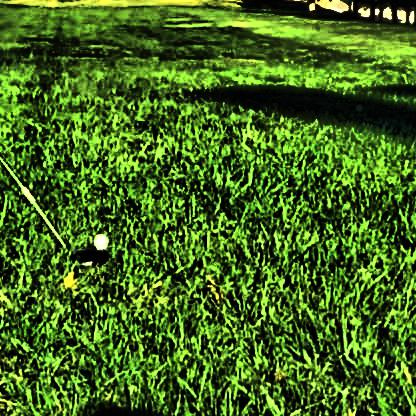golfball: (91, 231, 106, 248)
